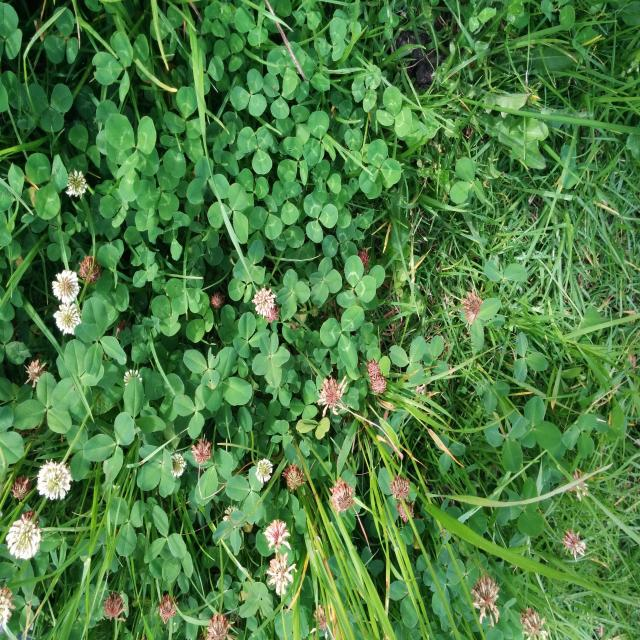Four Leaf Clover: (252, 332, 290, 388), (137, 448, 176, 495), (276, 270, 307, 319), (312, 258, 342, 305)
